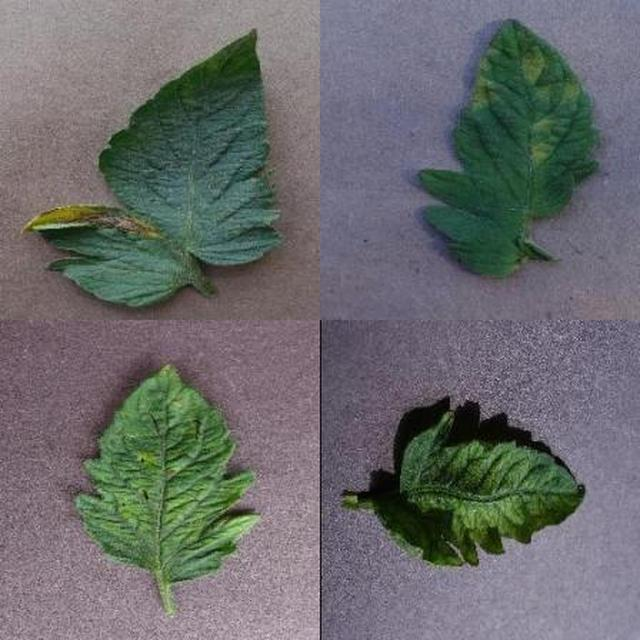Early Blight Leaf: (216, 211, 640, 640)
